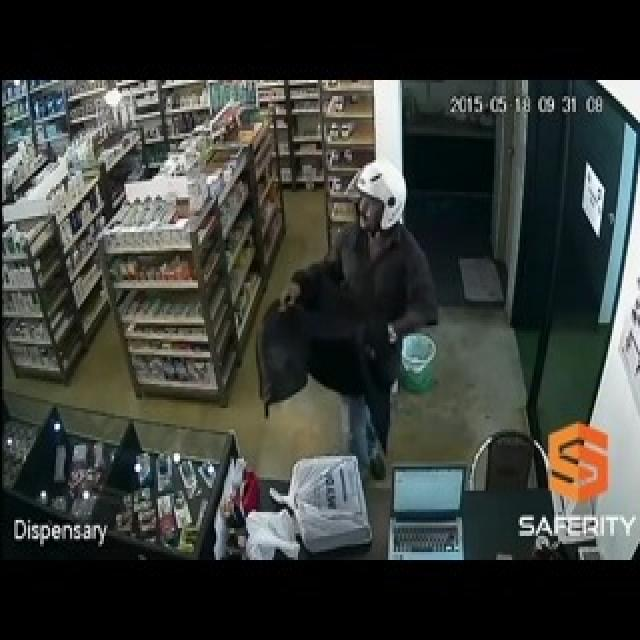thief: (283, 154, 419, 482)
